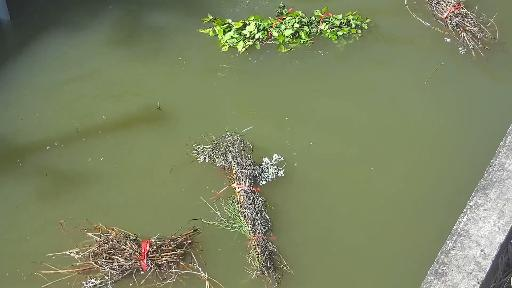twig: (185, 123, 317, 288), (32, 213, 219, 288), (192, 3, 378, 54), (398, 0, 506, 63)
